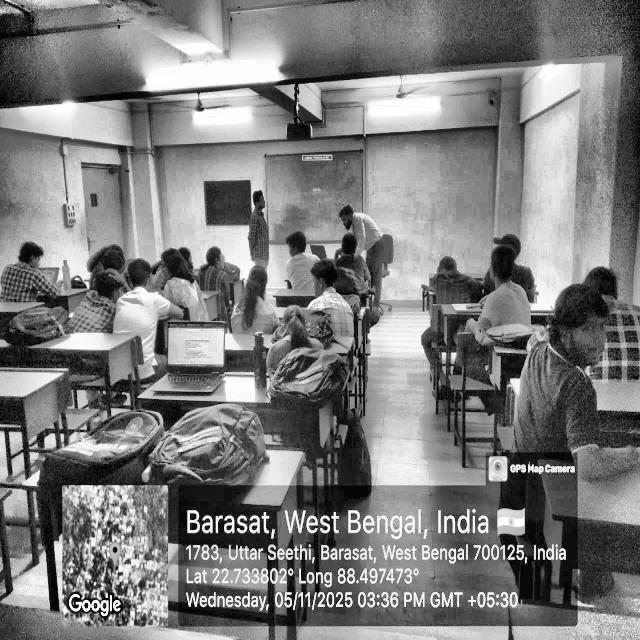Focus: (324, 200, 441, 285), (480, 222, 546, 355), (228, 158, 300, 270)
Not Focus: (106, 232, 362, 340), (544, 275, 640, 486), (80, 218, 223, 332), (234, 266, 368, 364), (15, 242, 72, 321)
